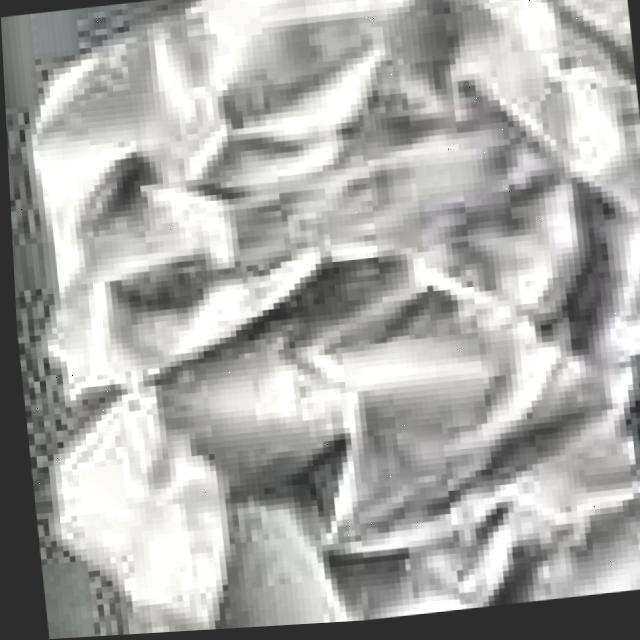paper: (20, 0, 640, 636)
